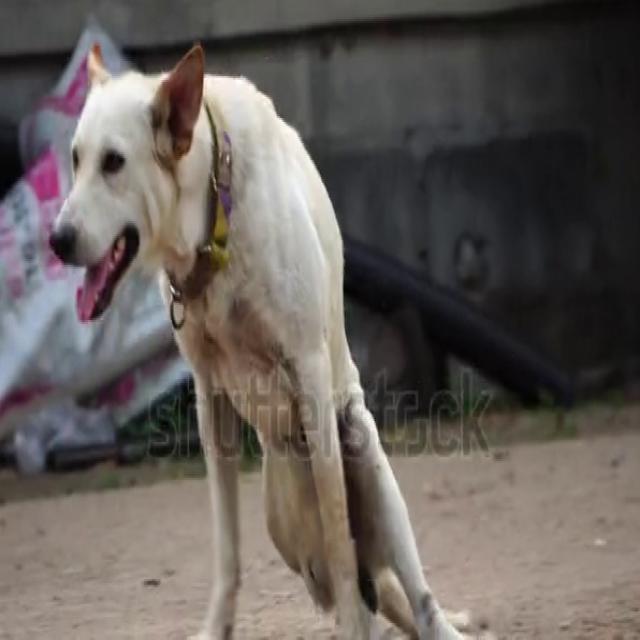injured-animals: (45, 36, 490, 638)
